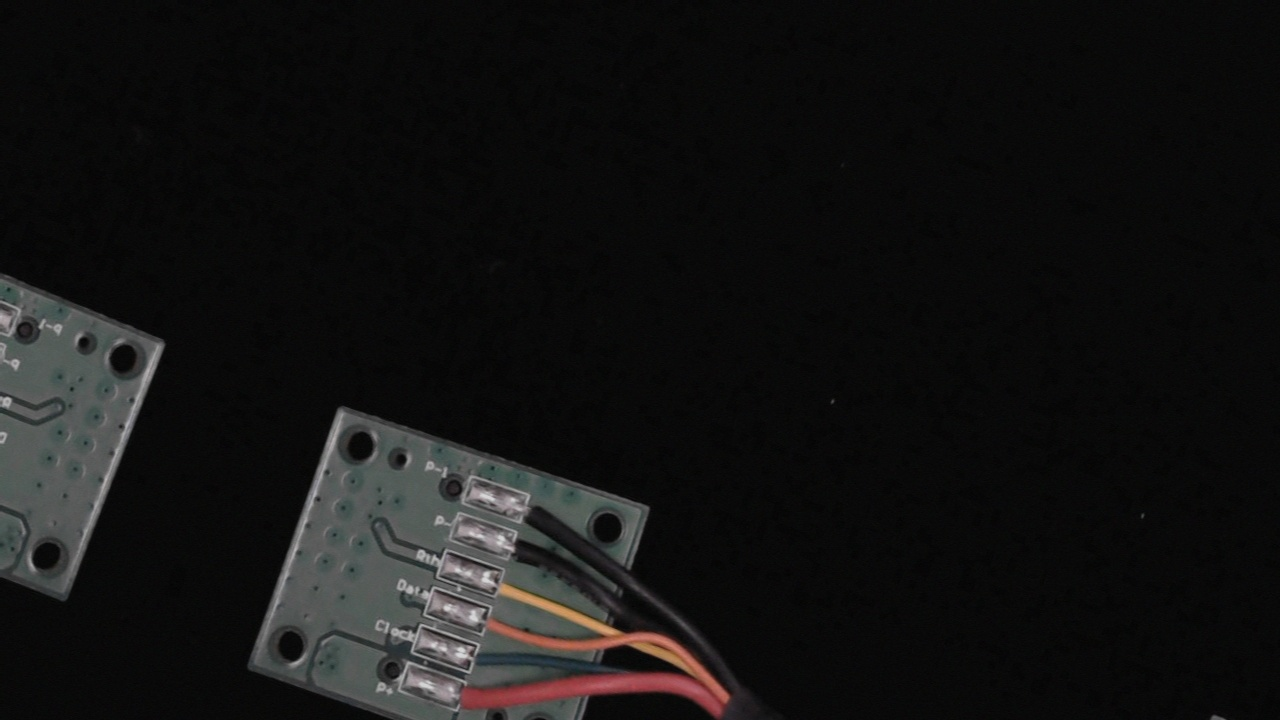Black: (490, 528, 563, 576)
Black1: (503, 488, 567, 537)
Green: (451, 639, 519, 687)
Orange: (465, 602, 531, 650)
Red: (438, 677, 507, 720)
Yellow: (476, 563, 551, 615)
